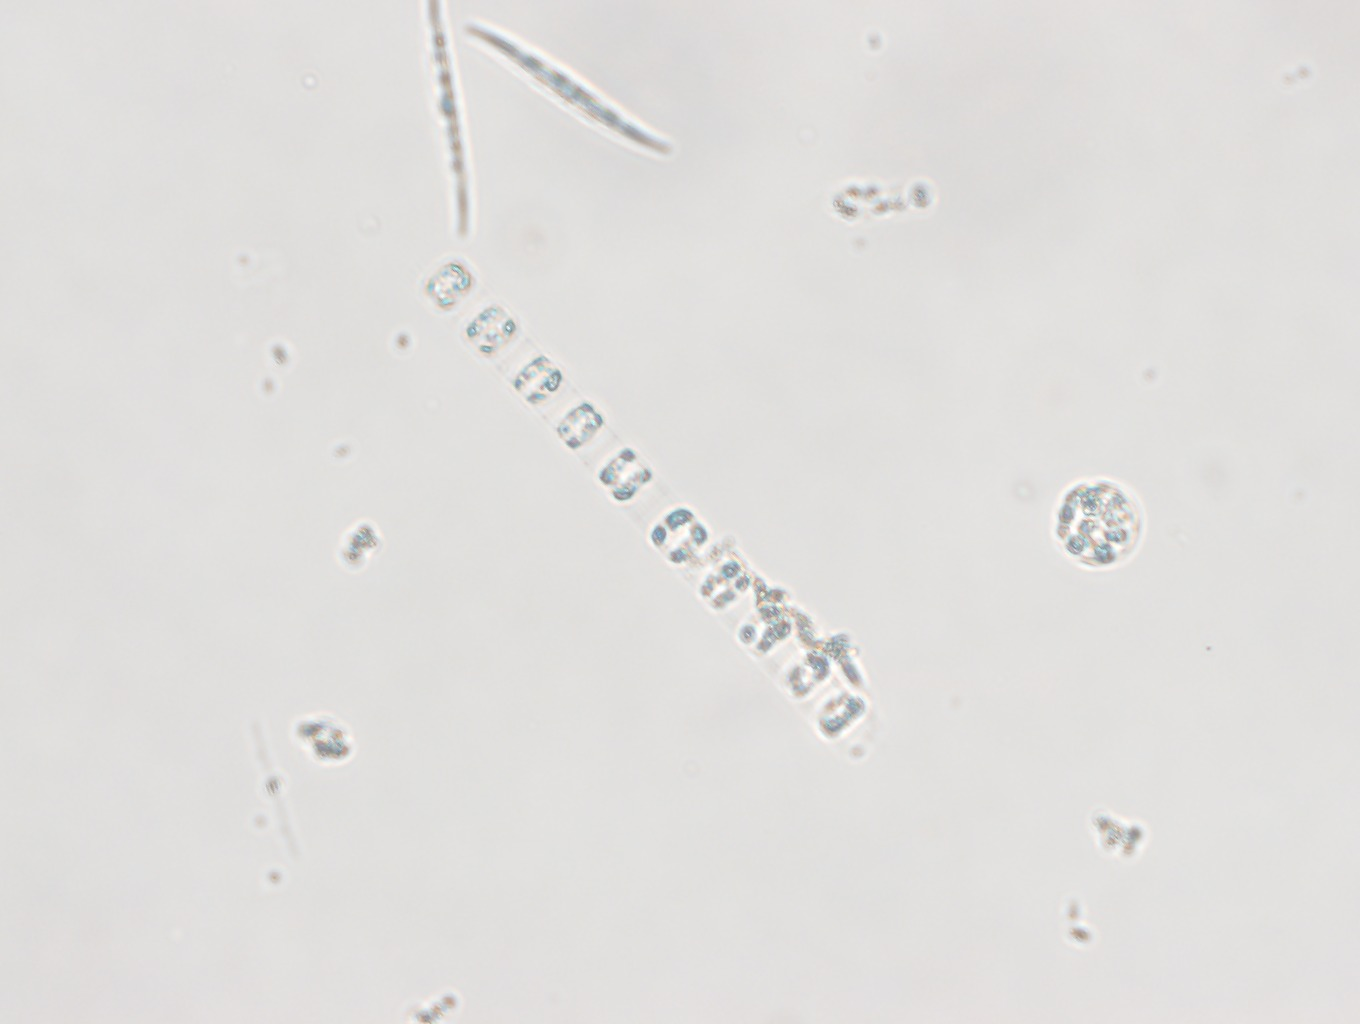skeletonema: (424, 256, 876, 749)
